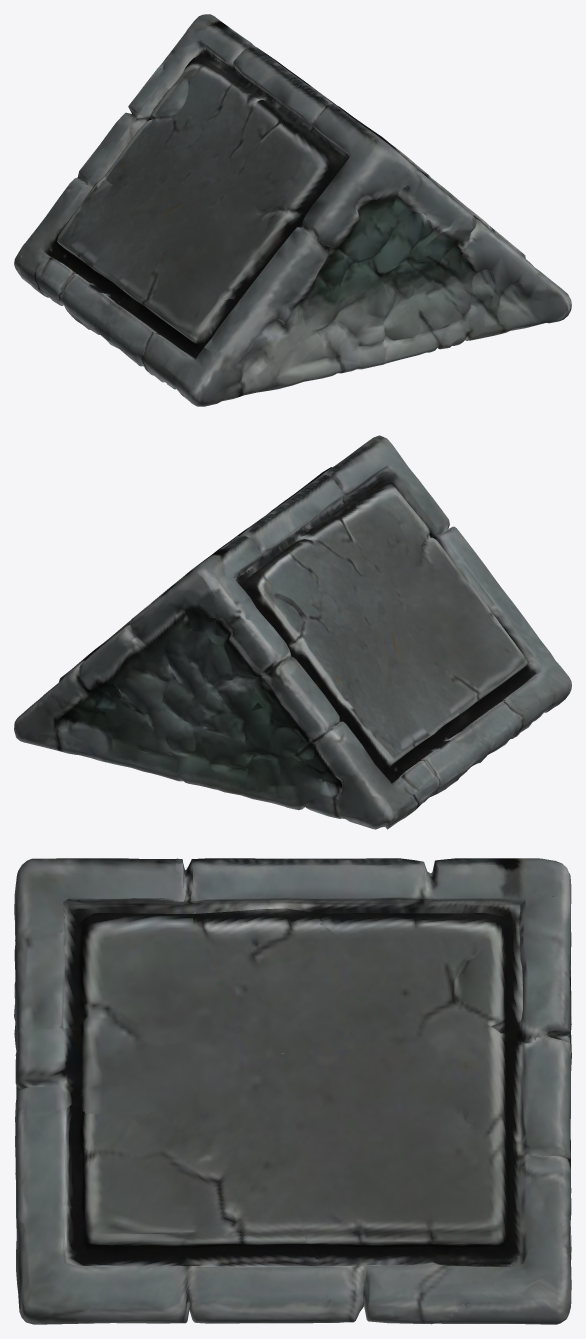
The model's file is pulsante.glb.
3 renders of one model, top to bottom at view 1: azimuth 30°, elevation 25°; view 2: azimuth 150°, elevation 25°; view 3: azimuth 270°, elevation 25°, orthographic. The views are drawn at different scales.
Parts seen in each view (by area): view 1: pedana; view 2: pedana; view 3: pedana.
Boxes of the visible parts, x1,y1,x2,y2 form: pedana: [14, 14, 571, 406]; pedana: [14, 435, 571, 829]; pedana: [14, 858, 571, 1324].
Bounding box in the file's own units: 0.3077 × 0.174 × 0.2608.
1 material, 1 textured.
